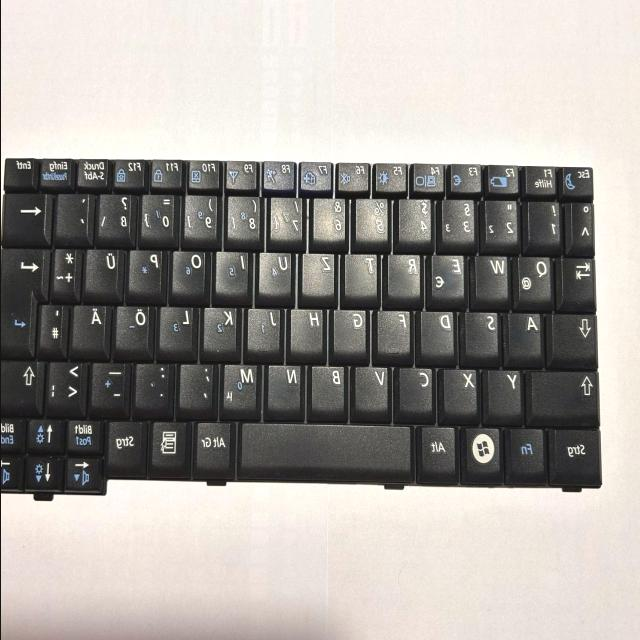0: (139, 194, 175, 244)
1: (527, 202, 562, 250)
2: (483, 198, 518, 247)
3: (440, 200, 475, 249)
4: (397, 199, 433, 247)
5: (354, 199, 390, 247)
6: (313, 198, 349, 246)
7: (268, 197, 304, 247)
8: (227, 196, 263, 246)
9: (182, 194, 218, 244)
a: (509, 312, 544, 364)
accent: (54, 192, 90, 242)
ae: (71, 305, 109, 357)
alt-left: (419, 427, 457, 478)
altgr-right: (192, 425, 231, 475)
b: (311, 365, 349, 421)
c: (396, 367, 434, 418)
caret: (569, 201, 595, 251)
comma: (179, 365, 215, 415)
d: (420, 311, 458, 361)
del: (1, 191, 51, 243)
e: (430, 255, 466, 303)
enter: (0, 247, 48, 357)
f: (376, 310, 412, 358)
g: (332, 310, 370, 360)
h: (290, 309, 327, 360)
hash: (37, 304, 65, 354)
i: (213, 251, 249, 301)
j: (245, 307, 283, 359)
k: (202, 306, 240, 358)
keyboard: (0, 141, 611, 511)
l: (158, 306, 196, 358)
less: (47, 361, 85, 416)
m: (222, 364, 260, 416)
minus: (91, 362, 127, 413)
n: (267, 364, 305, 419)
o: (171, 250, 207, 300)
oe: (115, 306, 154, 358)
p: (128, 250, 164, 300)
plus: (52, 247, 80, 297)
point: (135, 364, 171, 415)
q: (515, 256, 553, 308)
r: (388, 255, 424, 303)
s: (462, 312, 500, 362)
shift-left: (528, 370, 600, 425)
shift-lock: (547, 312, 597, 364)
shift-right: (0, 359, 43, 414)
space: (237, 424, 413, 479)
ss: (95, 193, 131, 243)
strg-left: (549, 429, 602, 480)
strg-right: (105, 421, 142, 469)
t: (343, 254, 379, 302)
tab: (558, 257, 596, 309)
u: (257, 252, 293, 302)
ue: (84, 249, 120, 299)
v: (353, 364, 391, 420)
w: (475, 256, 510, 305)
x: (442, 368, 480, 419)
y: (485, 370, 523, 421)
z: (299, 254, 335, 302)
